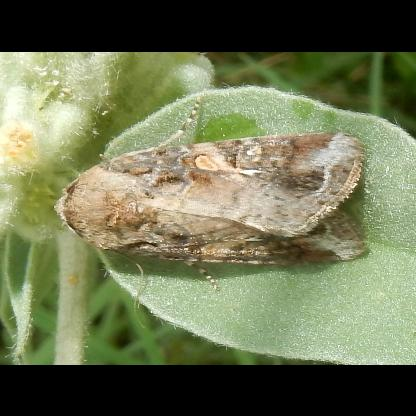Fall Armyworm Moth: (51, 89, 370, 332)
